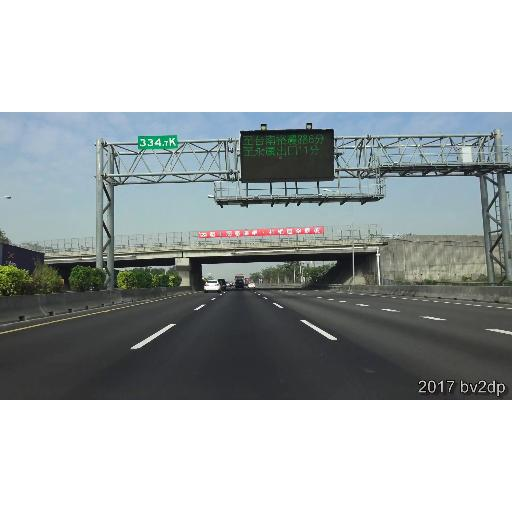Car: (204, 280, 221, 293), (218, 279, 226, 290), (236, 280, 244, 289), (249, 282, 256, 288)
